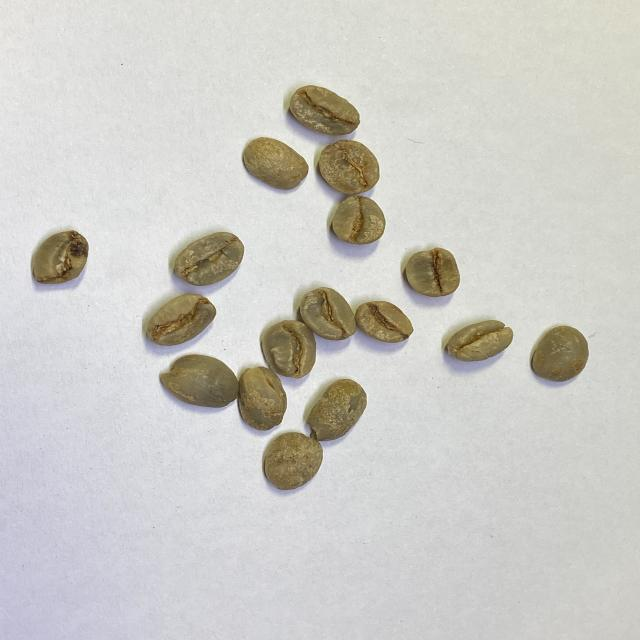bad: (259, 319, 323, 380), (28, 230, 92, 286), (319, 140, 382, 196)
good: (157, 353, 239, 409), (311, 375, 368, 447), (176, 232, 246, 288), (241, 136, 310, 192), (263, 430, 324, 493), (289, 84, 360, 138), (144, 293, 216, 346), (237, 365, 290, 431), (530, 325, 591, 381), (443, 318, 514, 362), (301, 287, 358, 340), (404, 248, 462, 300), (329, 197, 387, 246), (356, 301, 414, 344)
